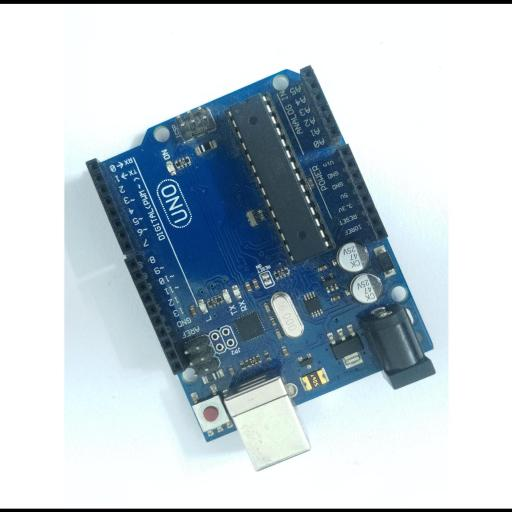Arduino Uno R3: (84, 64, 436, 471)
